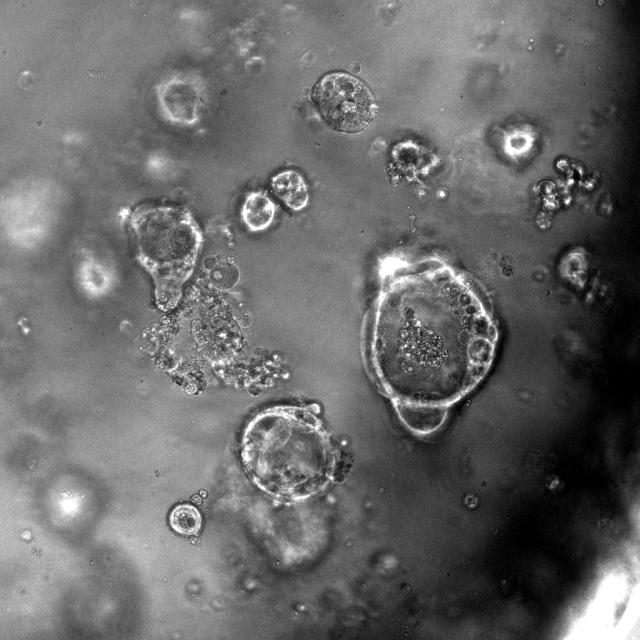organoid: (361, 245, 501, 441), (133, 253, 295, 398), (236, 400, 352, 506), (130, 200, 203, 311), (533, 154, 604, 232), (240, 168, 309, 232), (311, 71, 377, 134), (486, 114, 542, 169), (556, 245, 608, 302), (386, 136, 444, 187), (166, 488, 208, 544), (596, 192, 616, 219)
